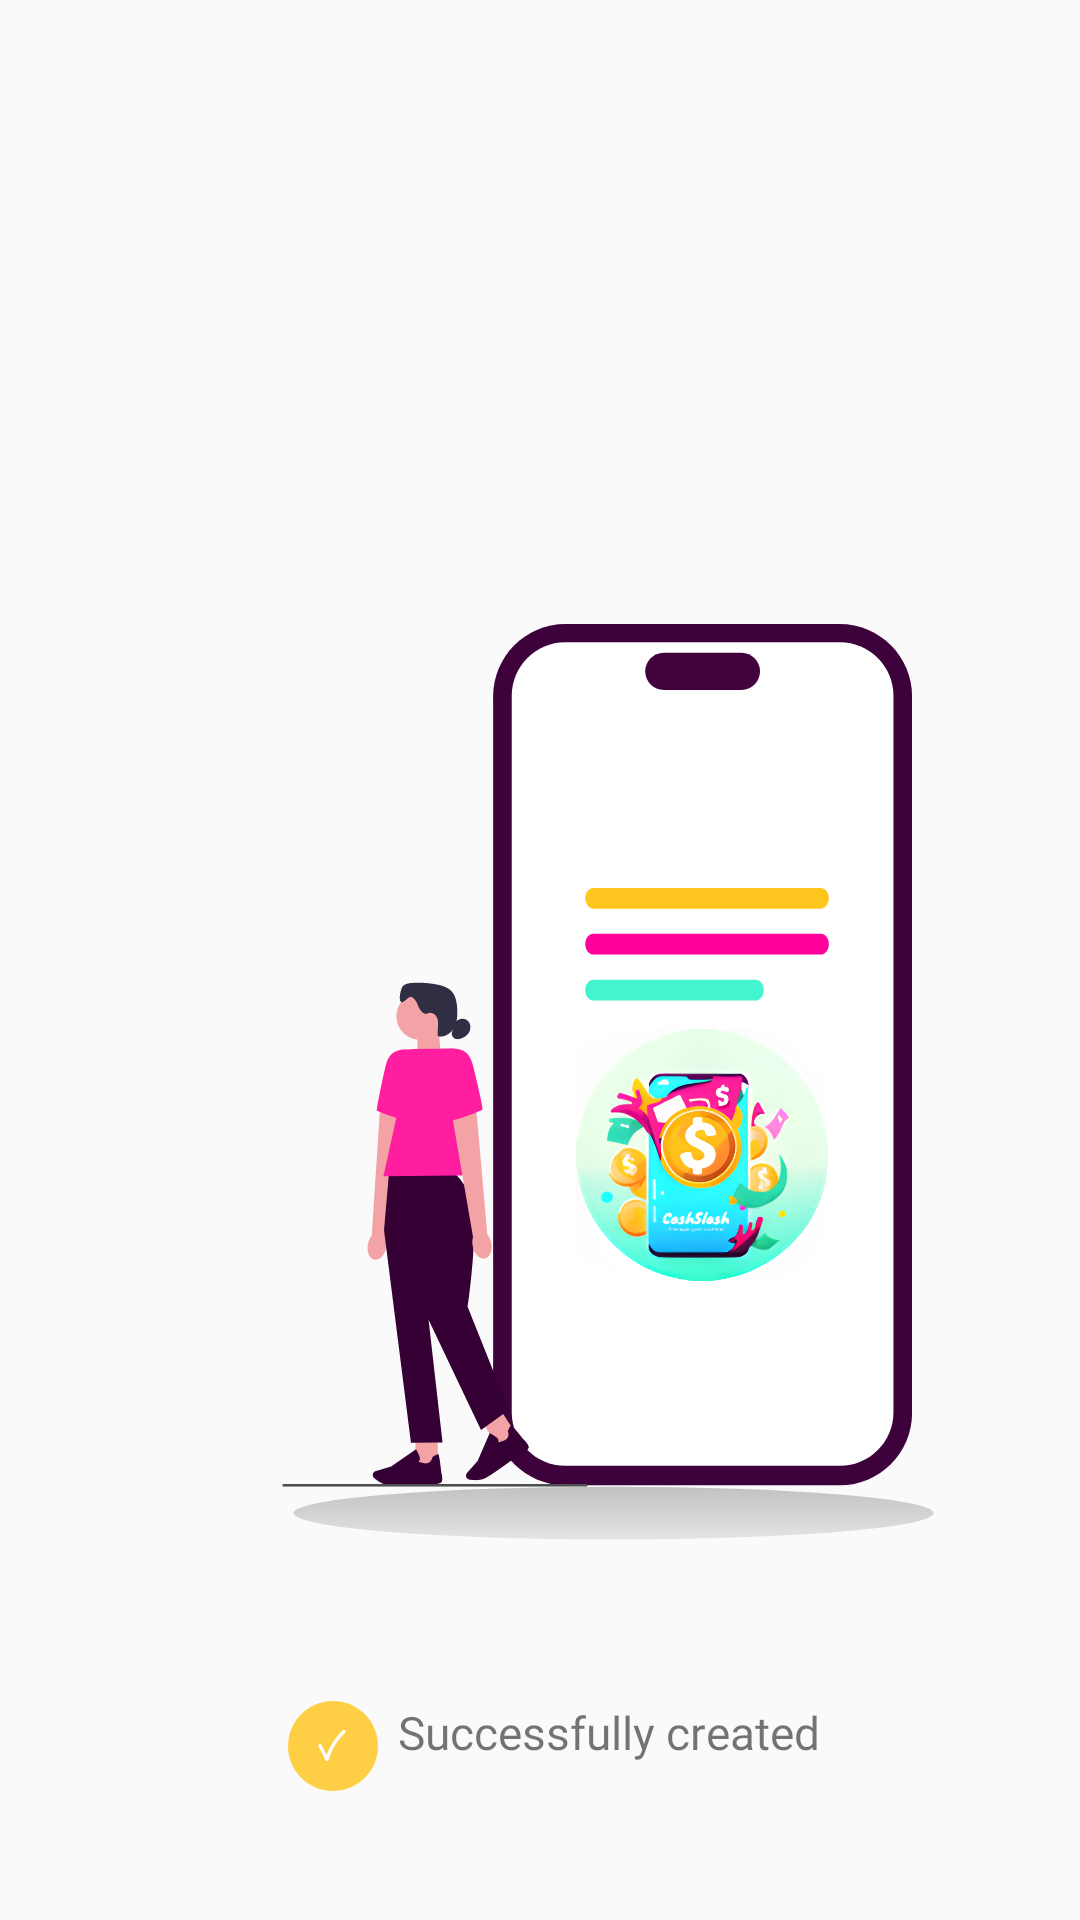

Where icons sit on this 1080px×1920px app screen, as (x1, y1, x2, y2):
right: (288, 1701, 378, 1791)
